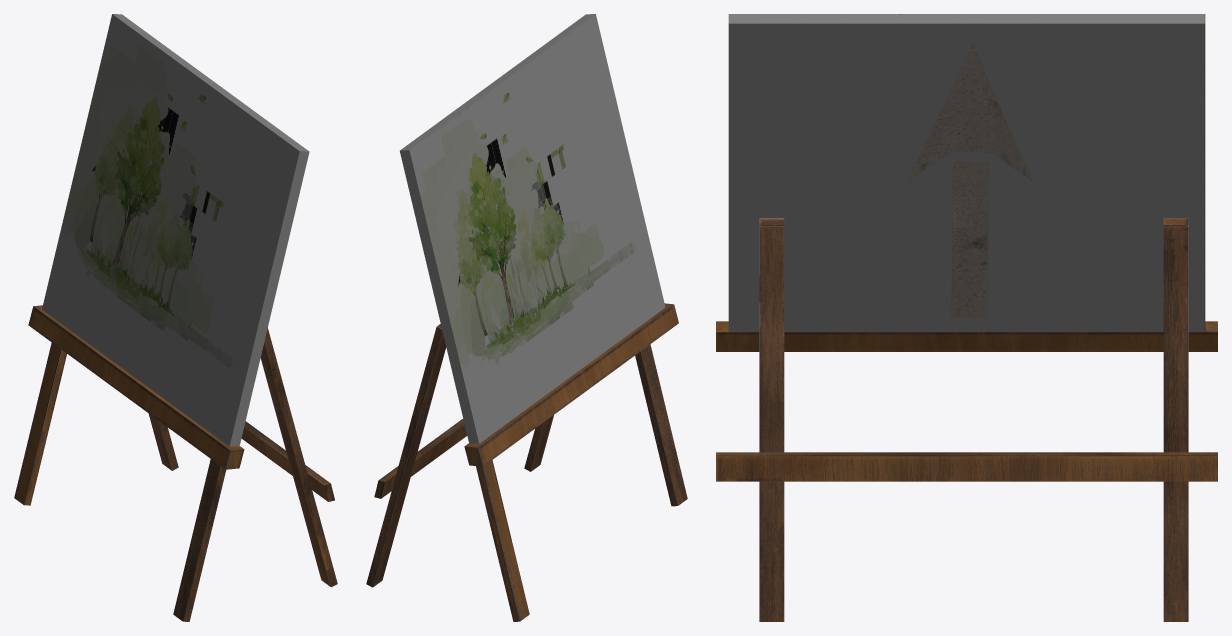
File: Easel.glb
3 views of the same model, side by side, from view 1: azimuth 30°, elevation 25°; view 2: azimuth 150°, elevation 25°; view 3: azimuth 270°, elevation 25° (orthographic). The views are drawn at different scales.
Visible parts, largest first — view 1: Art Board; view 2: Art Board; view 3: Art Board.
Part boxes in pixels (x1=…): Art Board: x1=14, y1=14, x2=337, y2=621; Art Board: x1=366, y1=14, x2=687, y2=621; Art Board: x1=716, y1=14, x2=1217, y2=621.
Size of the model in its own units: 45.27 by 127 by 100.
Materials: 1 (1 with a texture image).
